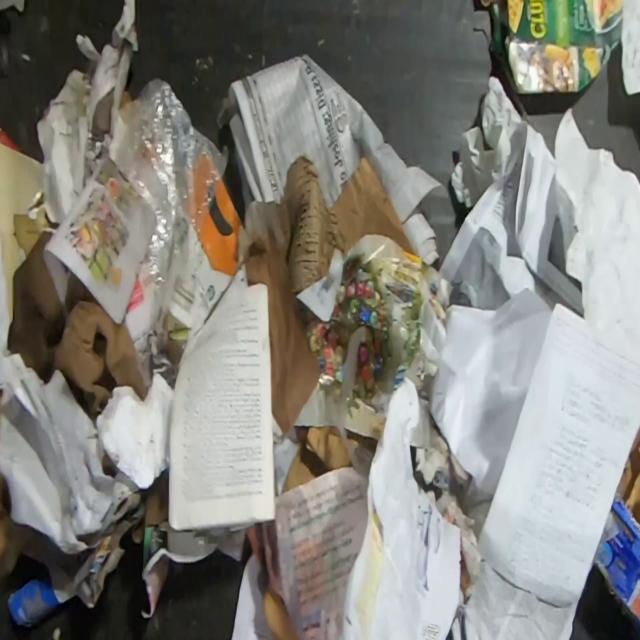cardboard: (6, 230, 150, 422), (280, 147, 418, 294), (487, 0, 625, 96), (165, 176, 243, 341), (282, 424, 352, 493), (130, 467, 169, 545), (616, 424, 640, 521), (262, 582, 300, 640), (348, 429, 365, 449)
soft_plastic: (113, 74, 232, 338), (323, 323, 374, 480), (592, 488, 640, 631)
